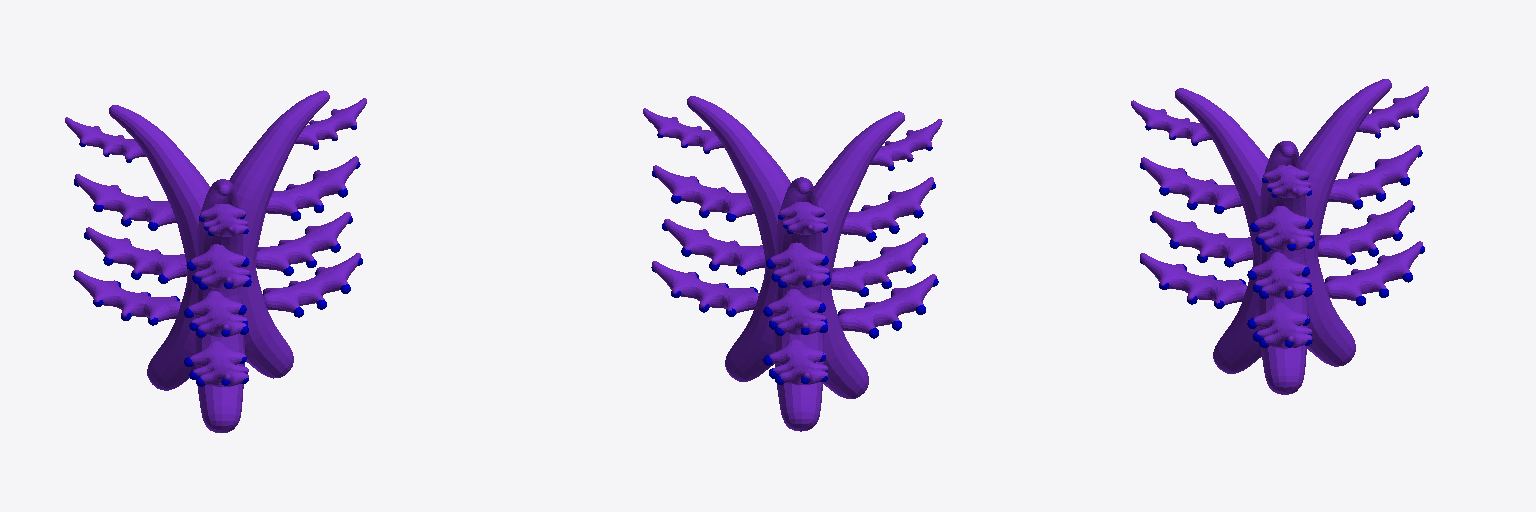
Rendered from Pflanze4.obj.
The picture shows the model from 3 angles: view 1: azimuth 30°, elevation 25°; view 2: azimuth 150°, elevation 25°; view 3: azimuth 270°, elevation 25°; orthographic projection.
Visible parts, largest first — view 1: Plane.001_Plane, Plane.007_Plane.006, Plane.010_Plane.007, Plane.003_Plane.001, Plane.008_Plane.001, Plane.005, Plane.004_Plane.005, Plane.009_Plane.001, Plane.000_Plane.005, Plane.012_Plane.008, Plane.014_Plane.008, Plane.013_Plane.008 (+3 smaller); view 2: Plane.001_Plane, Plane.010_Plane.007, Plane.007_Plane.006, Plane.013_Plane.008, Plane.012_Plane.008, Plane.003_Plane.001, Plane.008_Plane.001, Plane.014_Plane.008, Plane.009_Plane.001, Plane.005, Plane.000_Plane.005, Plane.004_Plane.005 (+3 smaller); view 3: Plane.007_Plane.006, Plane.010_Plane.007, Plane.001_Plane, Plane.005, Plane.004_Plane.005, Plane.012_Plane.008, Plane.013_Plane.008, Plane.000_Plane.005, Plane.014_Plane.008, Plane.003_Plane.001, Plane.009_Plane.001, Plane.008_Plane.001 (+3 smaller).
Part boxes in pixels (x1,y1,x2,y2): Plane.001_Plane: (229,90,329,378); Plane.007_Plane.006: (109,105,209,390); Plane.010_Plane.007: (195,179,244,432); Plane.003_Plane.001: (263,253,360,312); Plane.008_Plane.001: (256,212,350,271); Plane.005: (74,270,180,321); Plane.004_Plane.005: (86,227,186,280); Plane.009_Plane.001: (266,156,358,215); Plane.000_Plane.005: (75,174,176,226); Plane.012_Plane.008: (190,341,248,386); Plane.014_Plane.008: (191,244,249,289); Plane.013_Plane.008: (188,291,246,336); Plane.001_Plane: (687,96,790,381); Plane.010_Plane.007: (814,111,904,398); Plane.007_Plane.006: (774,177,823,431); Plane.013_Plane.008: (831,233,925,292); Plane.012_Plane.008: (838,274,936,333); Plane.003_Plane.001: (652,261,758,313); Plane.008_Plane.001: (664,219,764,271); Plane.014_Plane.008: (841,177,933,236); Plane.009_Plane.001: (653,165,754,217); Plane.005: (769,339,827,384); Plane.000_Plane.005: (770,242,829,287); Plane.004_Plane.005: (767,289,826,334); Plane.007_Plane.006: (1300,79,1391,366); Plane.010_Plane.007: (1175,88,1268,373); Plane.001_Plane: (1258,141,1307,394); Plane.005: (1325,241,1422,300); Plane.004_Plane.005: (1318,200,1412,259); Plane.012_Plane.008: (1140,253,1246,305); Plane.013_Plane.008: (1152,211,1252,263); Plane.000_Plane.005: (1328,145,1420,204); Plane.014_Plane.008: (1141,157,1242,209); Plane.003_Plane.001: (1254,302,1311,348); Plane.009_Plane.001: (1254,206,1313,250); Plane.008_Plane.001: (1251,252,1310,298).
Bounding box in the file's own units: 3.53 × 4.14 × 3.87.